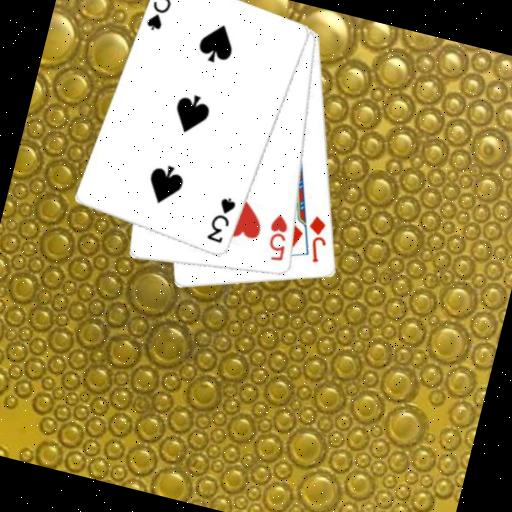3S: (204, 192, 240, 247), (142, 0, 178, 35)
5H: (260, 210, 296, 265)
JD: (298, 211, 335, 266)
